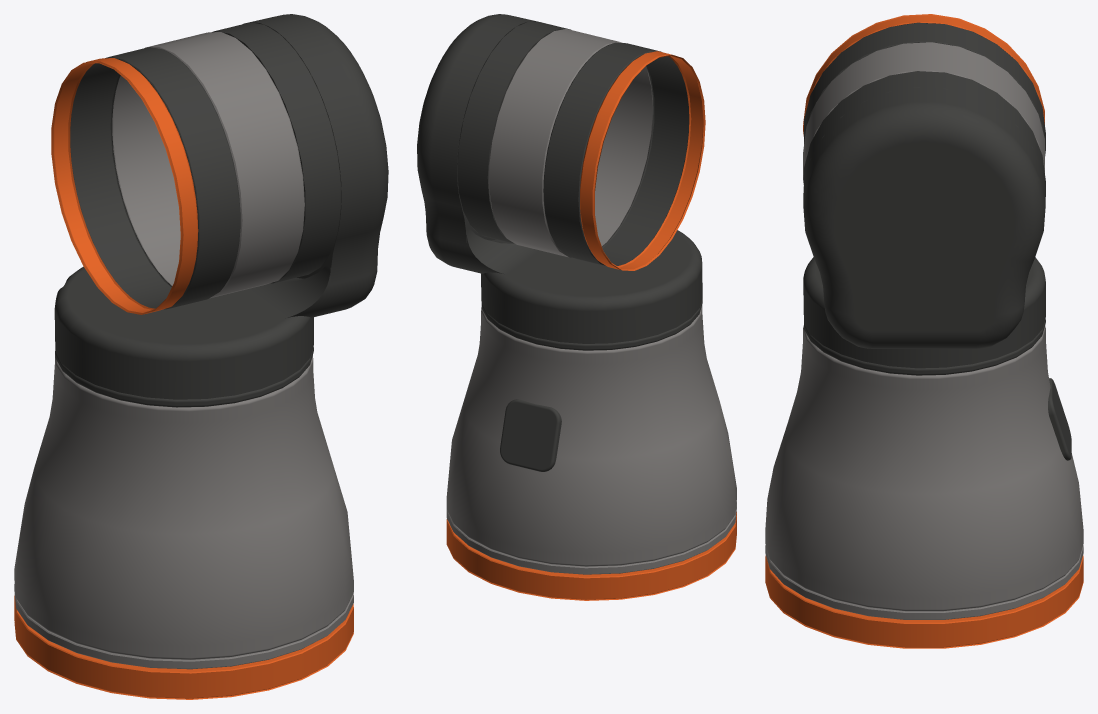
File: igus_REBEL_j3.gltf
3 views of the same model, side by side, from view 1: azimuth 30°, elevation 25°; view 2: azimuth 150°, elevation 25°; view 3: azimuth 270°, elevation 25° (orthographic). The views are drawn at different scales.
Visible parts, largest first — view 1: ReBel001.006; view 2: ReBel001.006; view 3: ReBel001.006.
Part boxes in pixels (<box>): ReBel001.006: <box>14,14,388,699</box>; ReBel001.006: <box>417,14,736,600</box>; ReBel001.006: <box>765,14,1083,648</box>.
Bounding box in the file's own units: 0.1061 × 0.2382 × 0.105.
